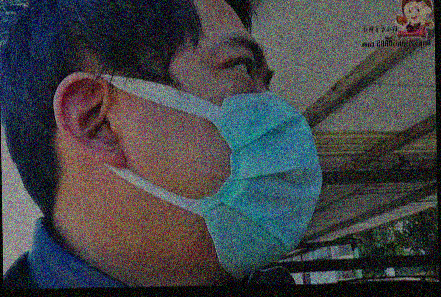with_mask: (128, 32, 325, 280)
